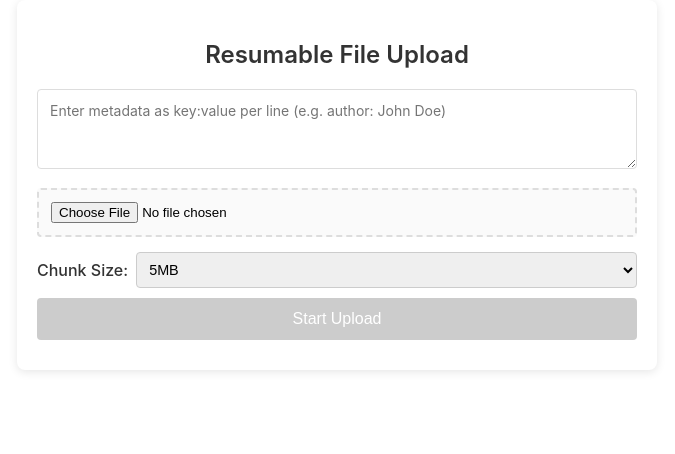
Test: UploadComponent › shows custom chunk size input when "Other" is selected
Select "Other" in the dropdown at (387, 270), box x1=136 y1=252 x2=637 y2=288
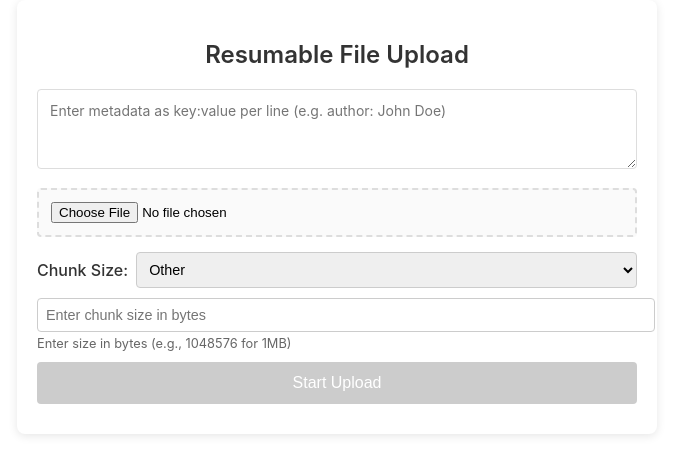
Result: the number field with placeholder "Enter chunk size in bytes" is shown at x1=37 y1=298 x2=655 y2=332
